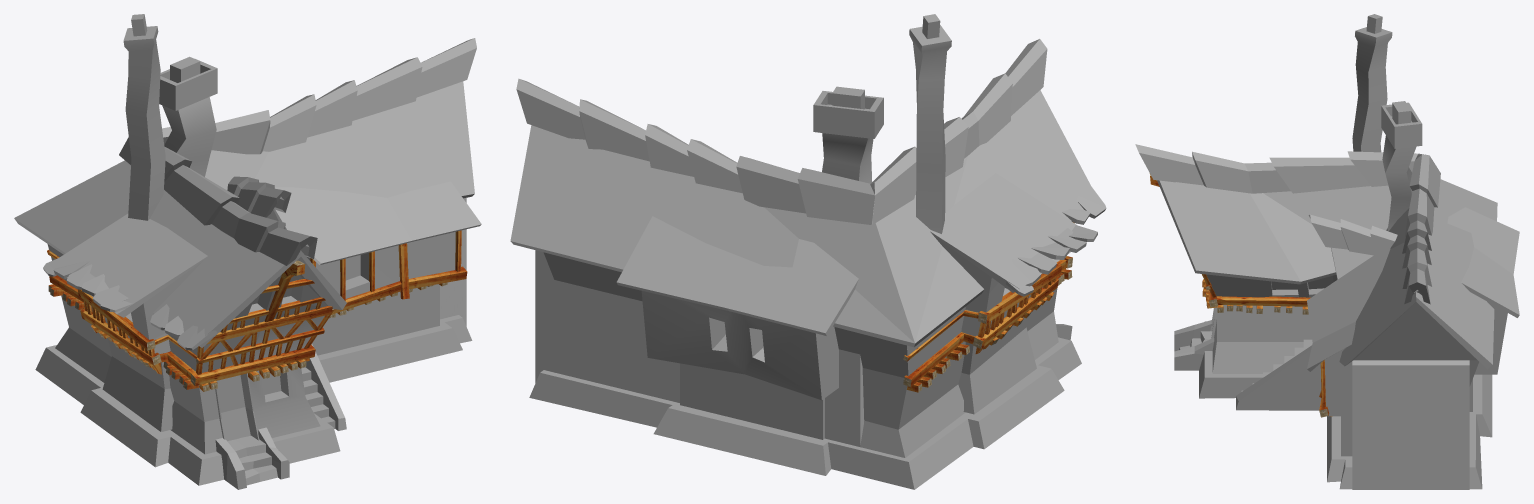
Rendered from mediHouse01.fbx.
The picture shows the model from 3 angles, left to right: view 1: azimuth 30°, elevation 25°; view 2: azimuth 150°, elevation 25°; view 3: azimuth 270°, elevation 25°; orthographic projection. The views are drawn at different scales.
Visible parts, largest first — view 1: polySurface2, pCube9, pCube24, pCube43, pCube14, pCube46, pCube42, pCube45, pCube8, pCube15, pCube44, pCube50 (+15 smaller); view 2: polySurface2, pCube12, pCube24, pCube2, pCube43, pCube14, pCube42, pCube13, pCube46, pCube45, pCube15, pCube98 (+2 smaller); view 3: polySurface2, pCube2, pCube42, pCube9, pCube12, pCube24, pCube46, pCube43, pCube6, pCube45, pCube44, pCube83 (+4 smaller).
Boxes of the visible parts, x1,y1,x2,y2 form: polySurface2: (14,81,474,454); pCube9: (274,181,481,298); pCube24: (35,315,472,485); pCube43: (162,38,476,154); pCube14: (49,213,207,353); pCube46: (123,14,165,220); pCube42: (119,137,317,265); pCube45: (159,56,217,176); pCube8: (312,284,439,355); pCube15: (102,338,173,431); pCube44: (227,176,291,217); pCube50: (190,344,315,385); polySurface2: (510,90,1092,457); pCube12: (616,216,858,400); pCube24: (529,337,1081,489); pCube2: (535,250,907,446); pCube43: (516,78,874,224); pCube14: (930,173,1076,336); pCube42: (870,39,1047,224); pCube13: (680,363,824,439); pCube46: (909,14,951,233); pCube45: (813,86,883,183); pCube15: (958,316,1036,414); pCube98: (973,278,1058,348); polySurface2: (1157,179,1497,386); pCube2: (1352,360,1469,489); pCube42: (1135,144,1425,193); pCube9: (1307,248,1390,416); pCube12: (1447,207,1519,374); pCube24: (1199,321,1492,489); pCube46: (1352,14,1392,152); pCube43: (1402,154,1440,304); pCube6: (1236,345,1321,410); pCube45: (1381,101,1422,231); pCube44: (1308,214,1397,256); pCube83: (1216,296,1310,306).
Size of the model in its own units: 21.46 by 17.43 by 17.89.
